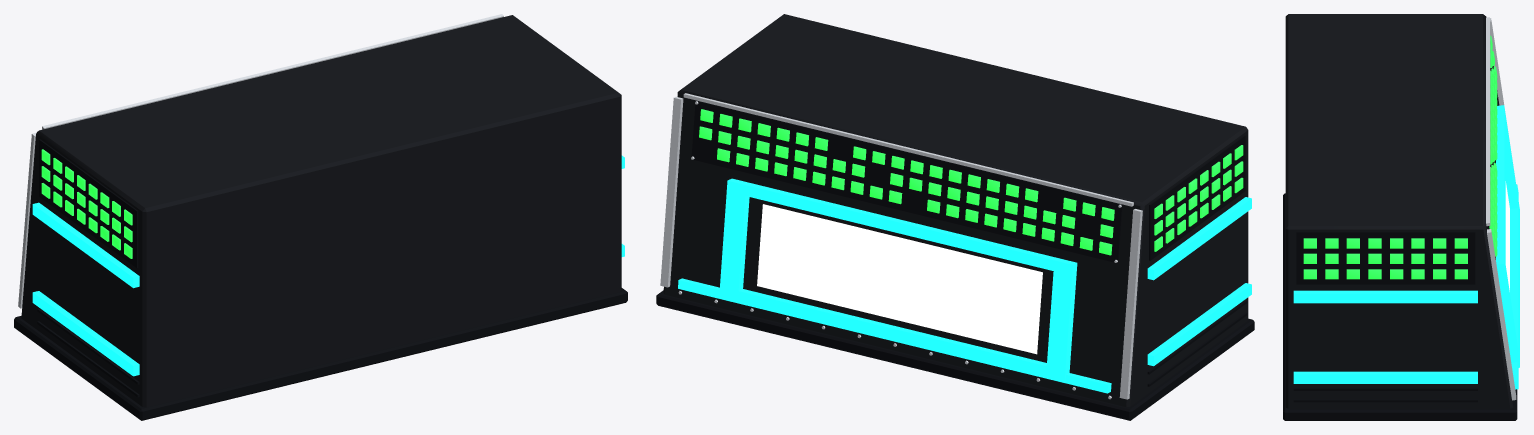
Rendered from deck_cyan_frame.glb.
3 renders of one model, left to right at view 1: azimuth 30°, elevation 25°; view 2: azimuth 150°, elevation 25°; view 3: azimuth 270°, elevation 25°, orthographic. The views are drawn at different scales.
Parts seen in each view (by area): view 1: deck_cyan_frame_deco_body, deck_cyan_frame_deco_trim, deck_cyan_frame_deco_neon, deck_cyan_frame_deco_led, deck_cyan_frame_chrome; view 2: deck_cyan_frame_deco_body, deck_cyan_frame_deco_trim, deck_cyan_frame_acrylic_sign, deck_cyan_frame_deco_neon, deck_cyan_frame_deco_led, deck_cyan_frame_chrome; view 3: deck_cyan_frame_deco_body, deck_cyan_frame_deco_trim, deck_cyan_frame_deco_neon, deck_cyan_frame_deco_led, deck_cyan_frame_chrome, deck_cyan_frame_acrylic_sign.
Part boxes in pixels (x1,y1,x2,y2): deck_cyan_frame_deco_body: [21, 15, 621, 407]; deck_cyan_frame_deco_trim: [14, 139, 627, 420]; deck_cyan_frame_deco_neon: [32, 155, 624, 376]; deck_cyan_frame_deco_led: [41, 149, 132, 258]; deck_cyan_frame_chrome: [18, 14, 503, 308]; deck_cyan_frame_deco_body: [663, 14, 1248, 407]; deck_cyan_frame_deco_trim: [656, 100, 1254, 420]; deck_cyan_frame_acrylic_sign: [757, 204, 1042, 354]; deck_cyan_frame_deco_neon: [678, 178, 1251, 393]; deck_cyan_frame_deco_led: [699, 109, 1243, 255]; deck_cyan_frame_chrome: [660, 93, 1142, 399]; deck_cyan_frame_deco_body: [1285, 14, 1513, 408]; deck_cyan_frame_deco_trim: [1283, 66, 1517, 420]; deck_cyan_frame_deco_neon: [1293, 105, 1519, 389]; deck_cyan_frame_deco_led: [1303, 35, 1497, 279]; deck_cyan_frame_chrome: [1486, 17, 1516, 400]; deck_cyan_frame_acrylic_sign: [1505, 181, 1509, 291].
Bounding box in the file's own units: 2.16 × 0.88 × 0.9803.
